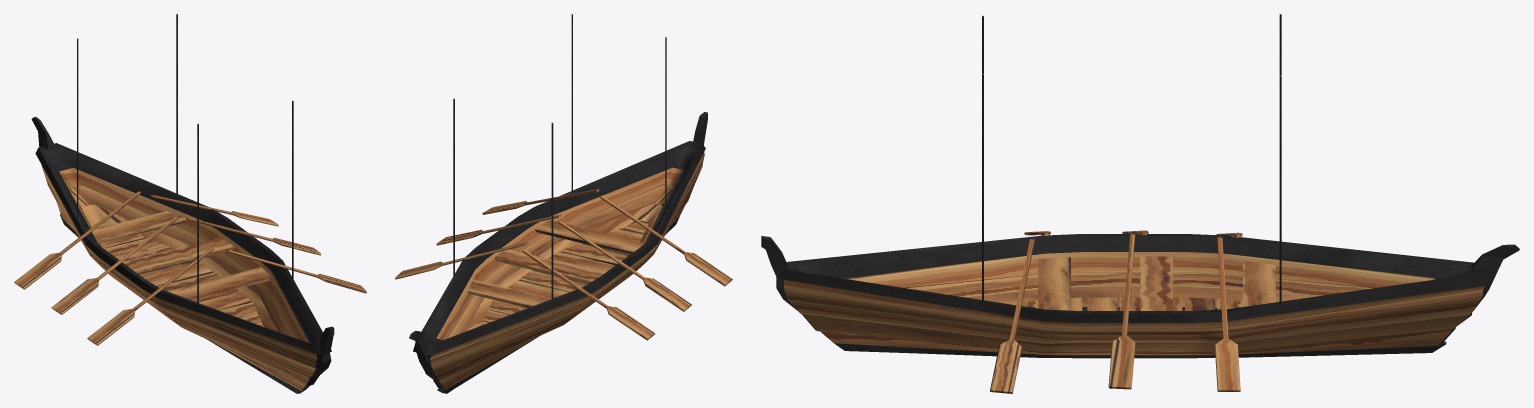
Rendered from SM_Boat.fbx.
The picture shows the model from 3 angles, left to right: view 1: azimuth 30°, elevation 25°; view 2: azimuth 150°, elevation 25°; view 3: azimuth 270°, elevation 25°; orthographic projection. The views are drawn at different scales.
Parts seen in each view (by area): view 1: Boat; view 2: Boat; view 3: Boat.
Part boxes in pixels (x1,y1,x2,y2): Boat: (14,14,366,393); Boat: (395,14,732,393); Boat: (761,14,1519,393).
Bounding box in the file's own units: 523 × 473 × 1045.
Materials: 1 (1 with a texture image).
